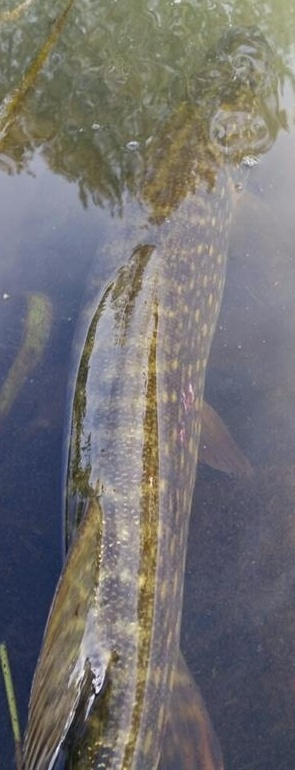Esox lucius: (20, 20, 275, 770)
